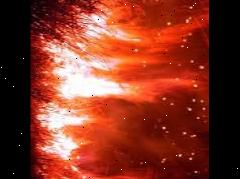fire: (31, 0, 208, 179)
